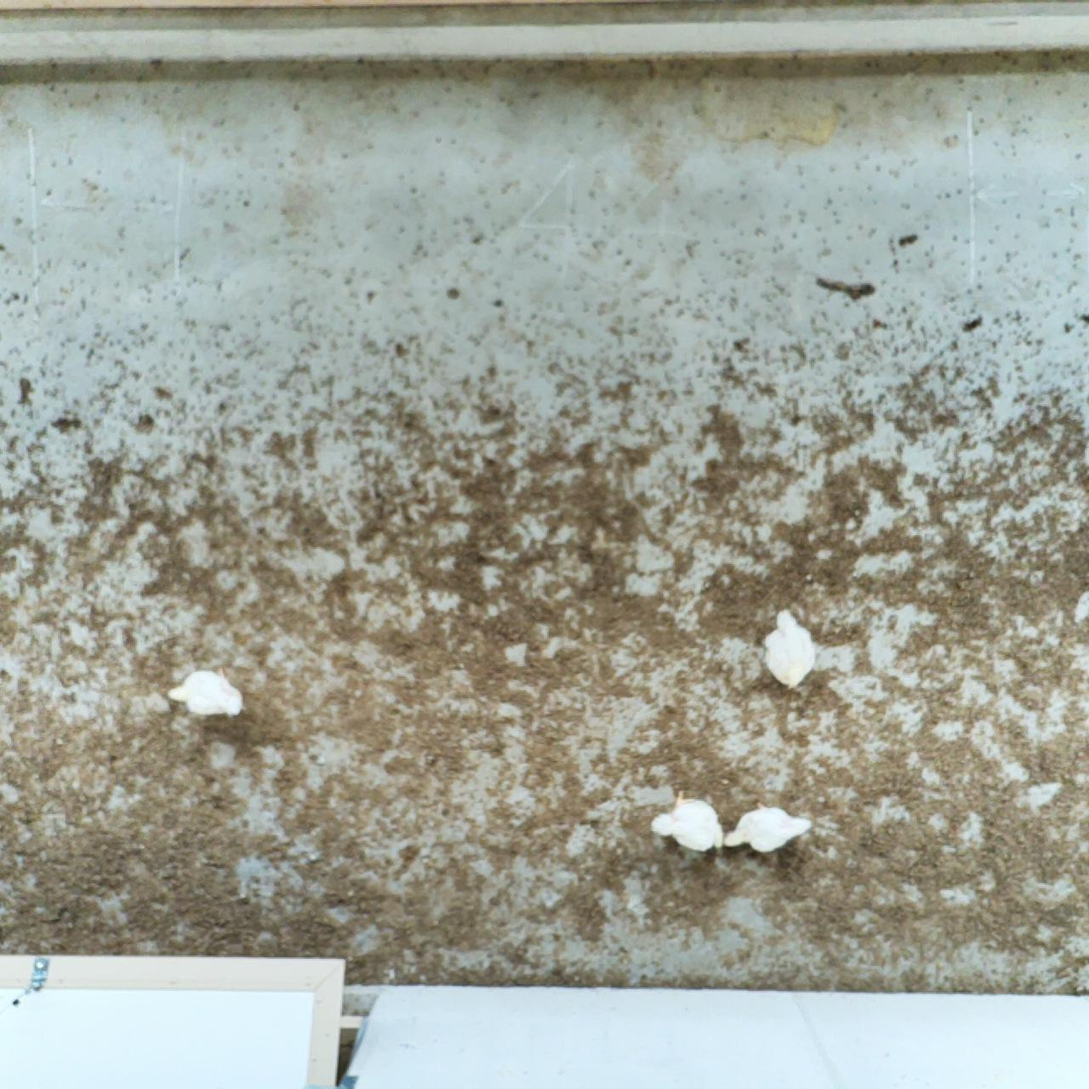chicken: (645, 784, 725, 858), (760, 603, 821, 693), (723, 798, 817, 853), (166, 663, 246, 724)
